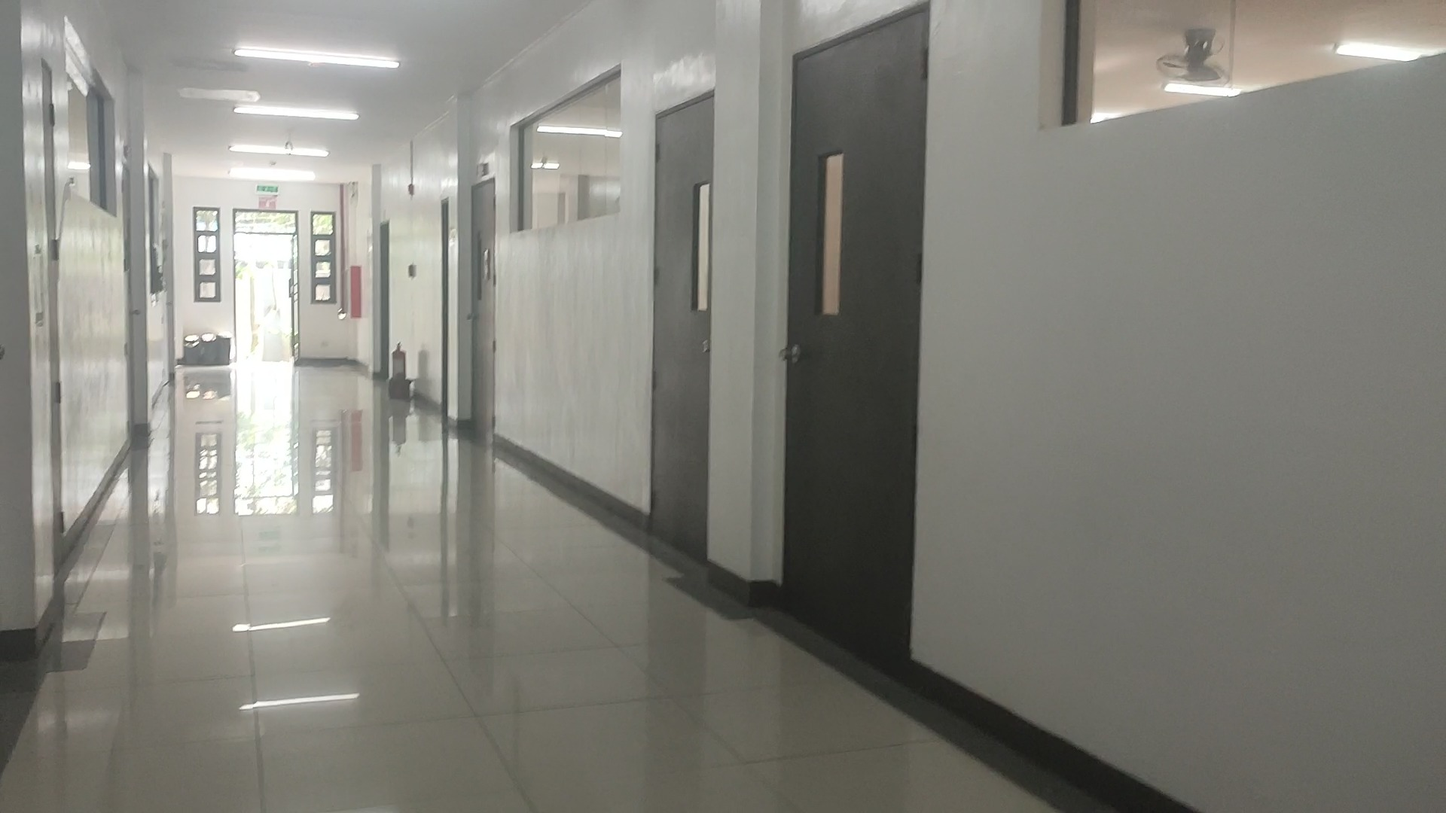door: (783, 4, 929, 666), (654, 91, 714, 565)
